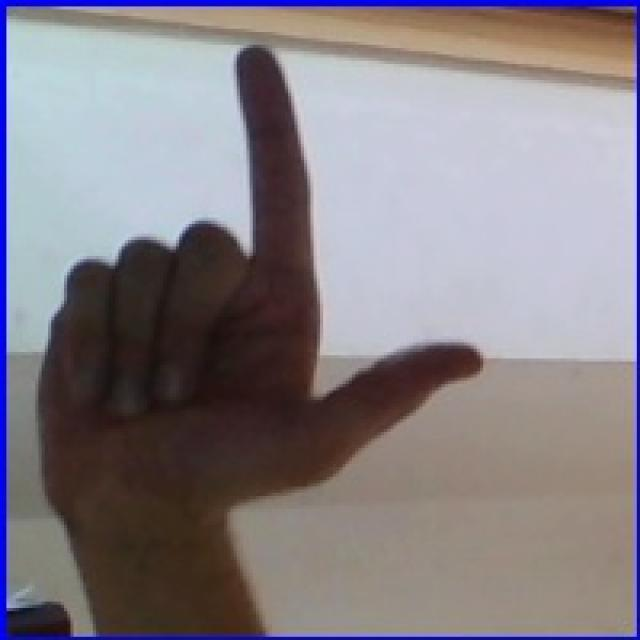L: (11, 28, 503, 636)
